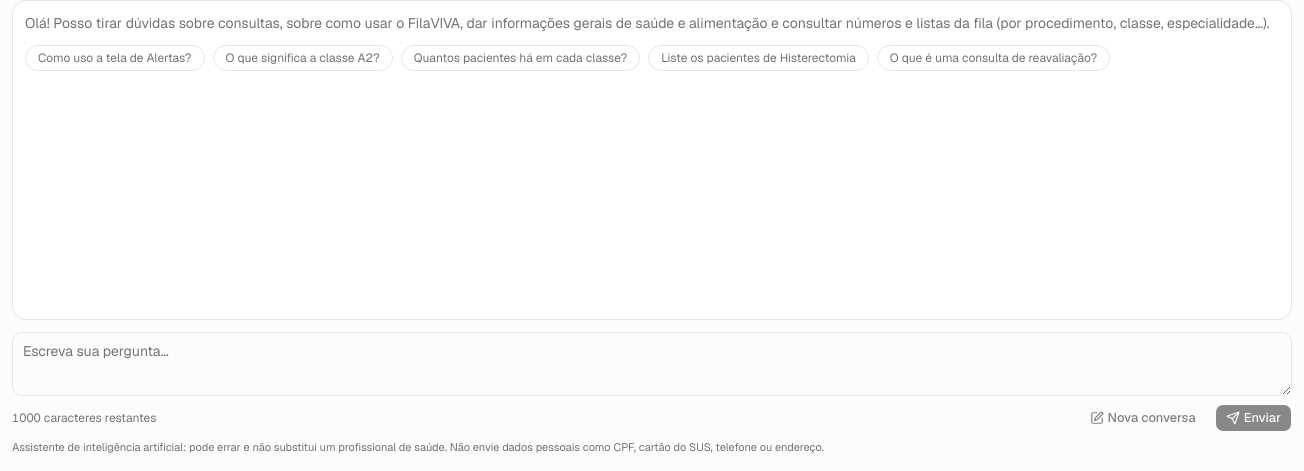
it: Chat: conversa › clicar numa sugestão envia a pergunta
Click the button "O que significa a classe A2?".
click(303, 58)  # box [213, 45, 393, 71]
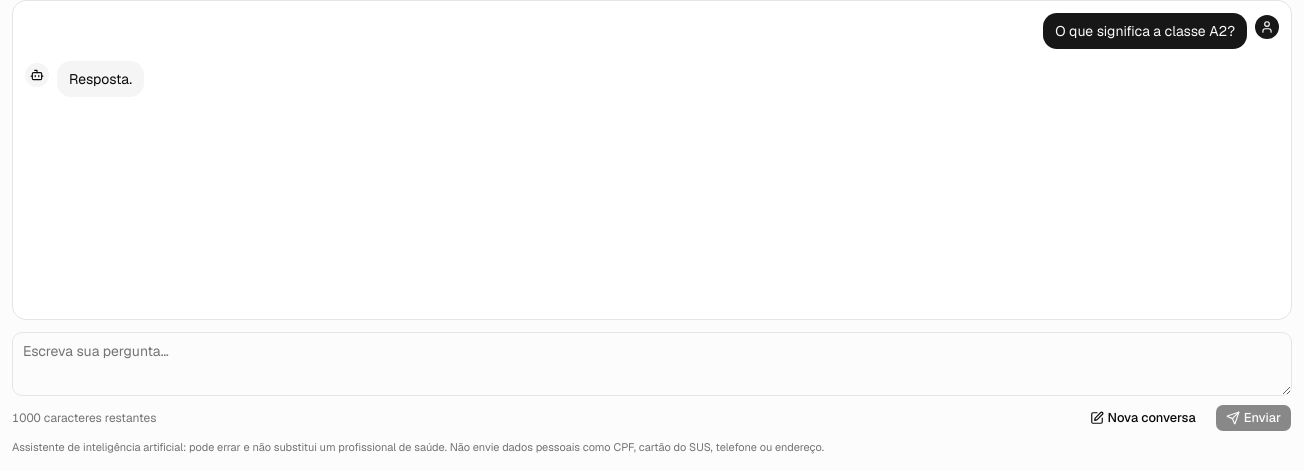
Expected: the text "O que significa a classe A2?" is shown, [1043, 13, 1247, 49]
Now the text "Resposta." is shown, box [57, 61, 144, 97]
